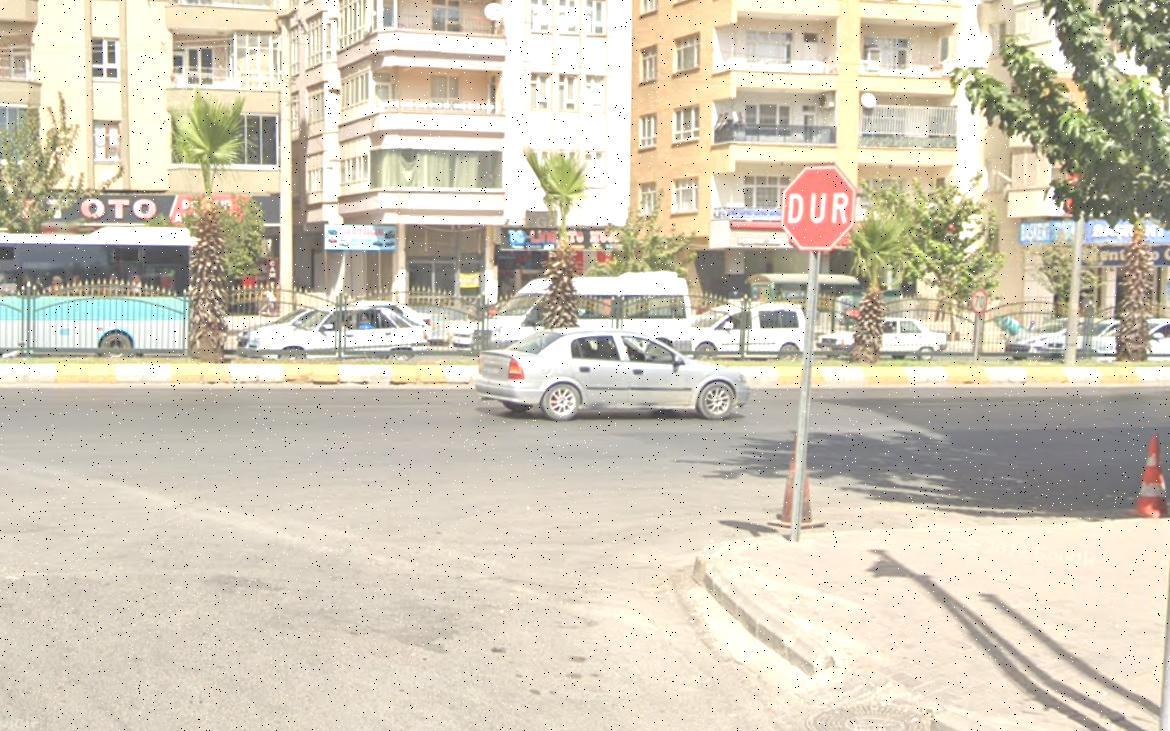stop: (783, 165, 856, 246)
